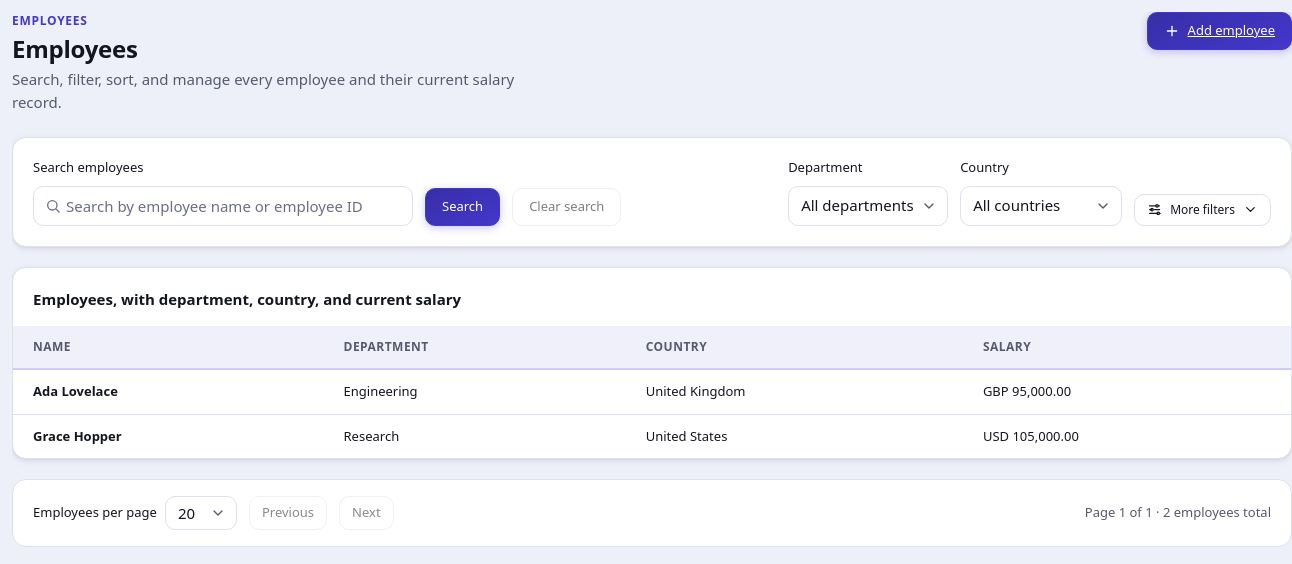
Test case: EmployeeListPage › searches by a partial employee name and sends the correct search query parameter
Expected: the link "Grace Hopper" is shown, [33,426,122,444]
Type "Lovel" into the search field labelled "Search employees" at (223, 206), box [33,186,413,226]
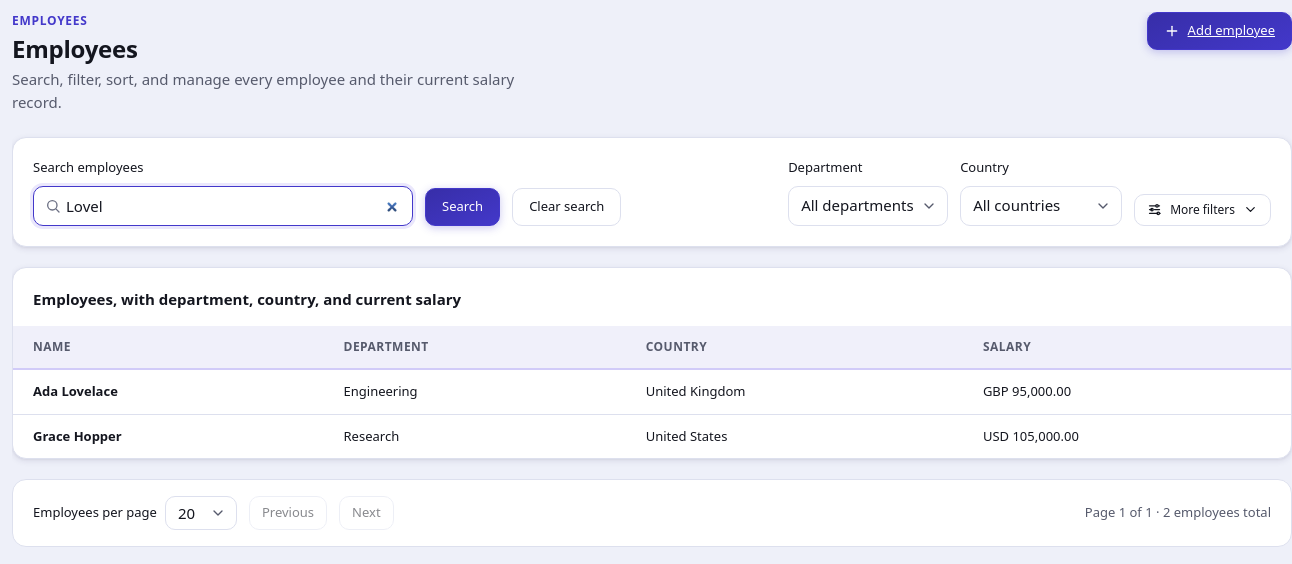
Click the button "Search" at (463, 206), box [425,188,500,226]
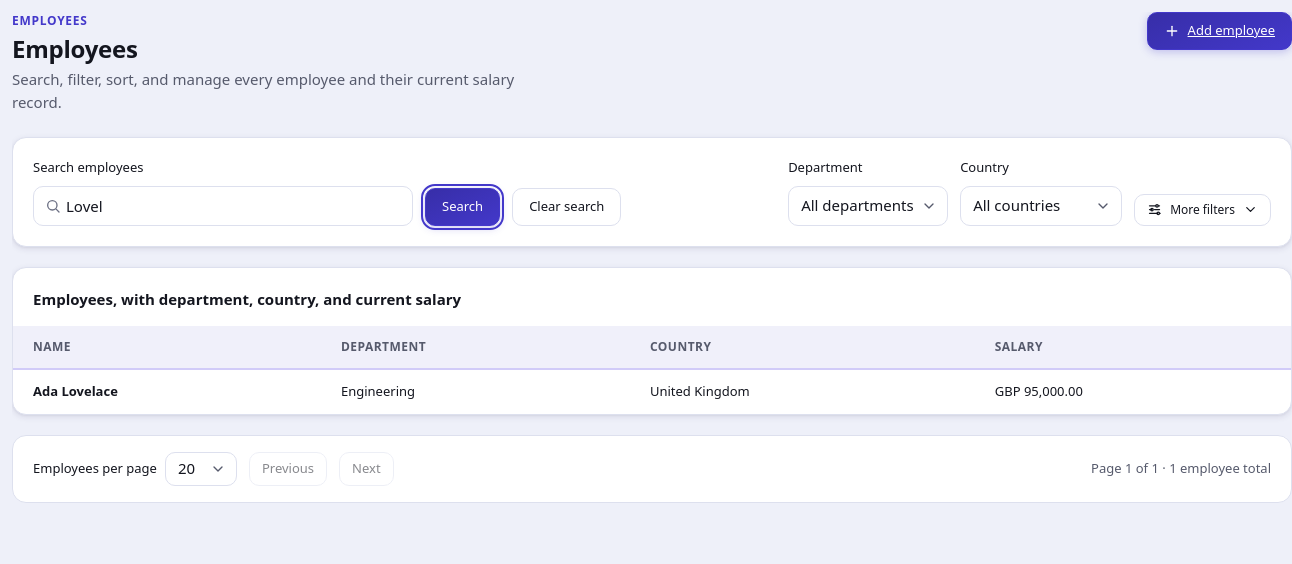
Expected: the link "Ada Lovelace" is shown, [33,382,118,400]
Expected: the link "Grace Hopper" is gone
